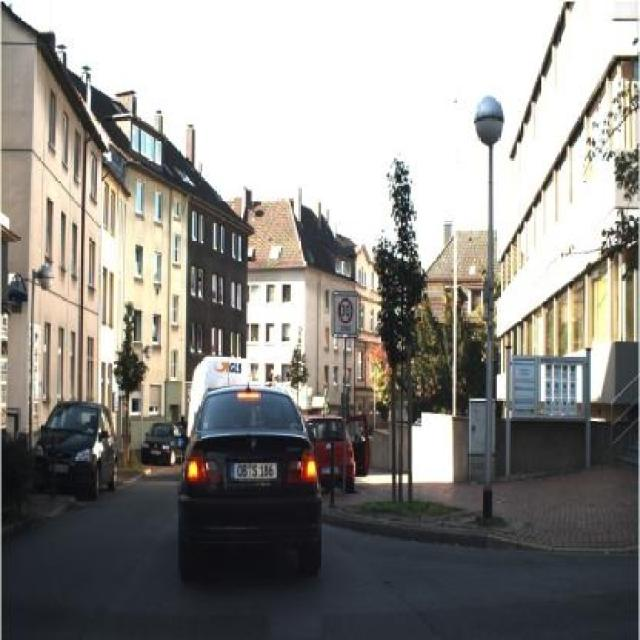forb_speed_over_30: (337, 296, 355, 322)
